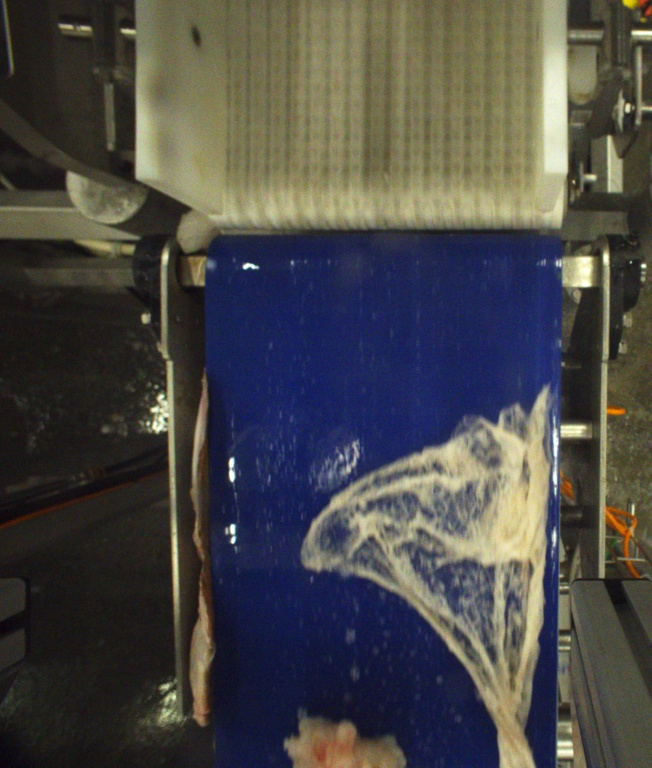ANF: (275, 713, 400, 768)
